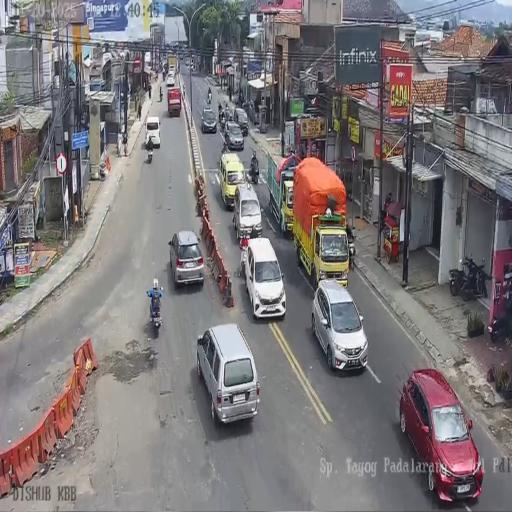3: (292, 157, 348, 284), (167, 87, 182, 117)
car: (398, 370, 482, 503), (196, 324, 261, 425), (311, 279, 368, 372), (242, 238, 287, 320), (168, 230, 204, 288), (233, 182, 262, 243), (145, 116, 160, 148), (233, 107, 249, 136), (200, 106, 216, 133), (185, 56, 196, 72), (166, 71, 176, 87), (179, 52, 184, 60)
truck: (450, 252, 486, 299), (489, 298, 512, 342), (148, 286, 163, 329), (248, 151, 260, 183), (218, 103, 226, 126), (224, 104, 234, 122), (147, 142, 153, 164), (207, 90, 212, 104), (158, 86, 162, 101), (148, 84, 152, 99), (162, 70, 166, 81)
